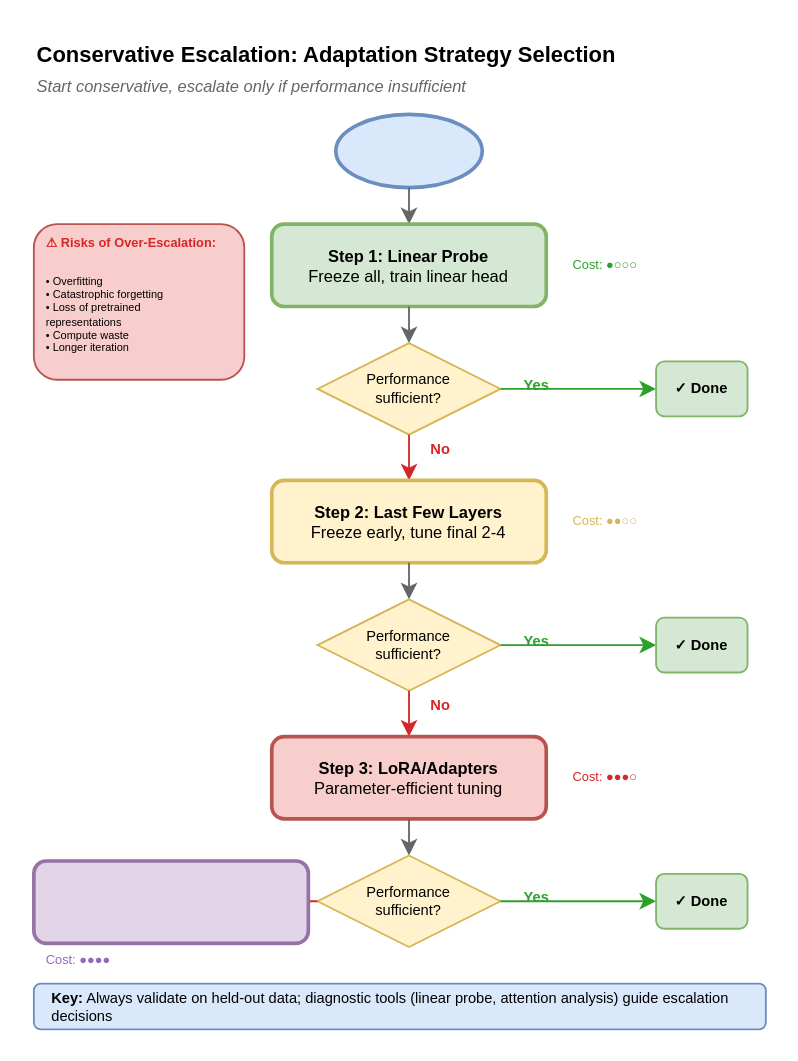
This 798x1061 diagram has some shape labels left out. Here are the shapes that lost their labels. From the top down, the centre of each, then its label:
At point (408, 150): "START New Task".
At point (170, 901): "Step 4: Full Fine-tune All parameters (or from scratch)".
